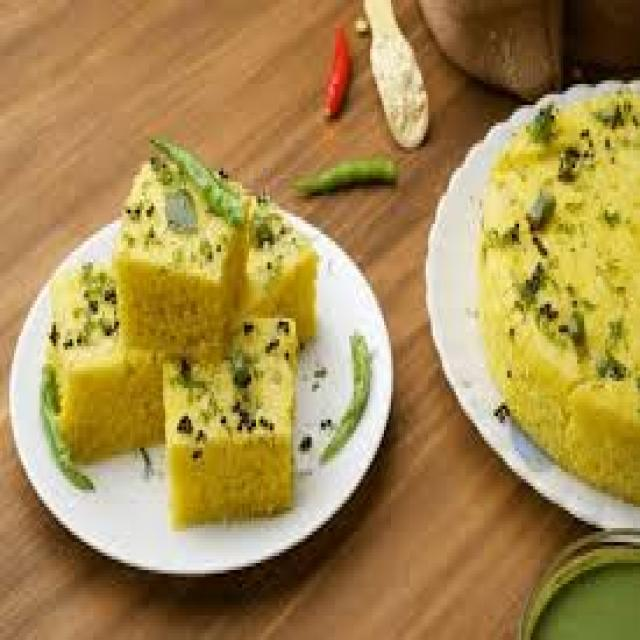DHOKLA: (476, 92, 638, 511), (113, 154, 261, 362), (164, 307, 296, 522), (47, 275, 173, 458), (251, 198, 313, 358)
